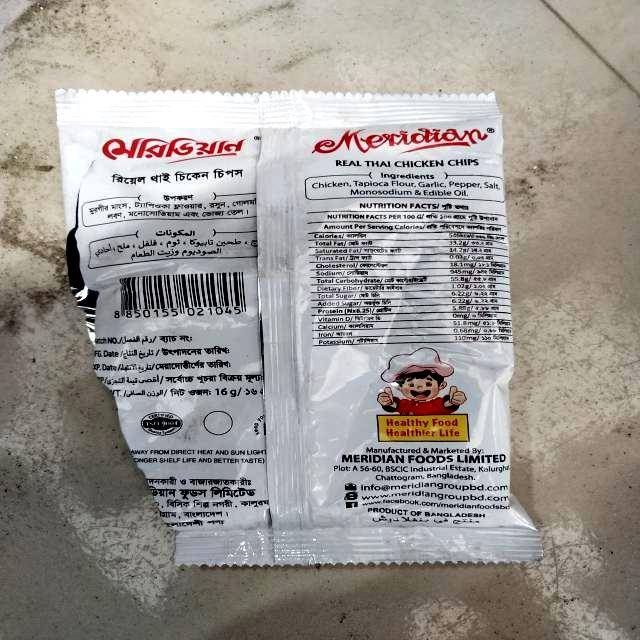packet: (60, 88, 545, 568)
